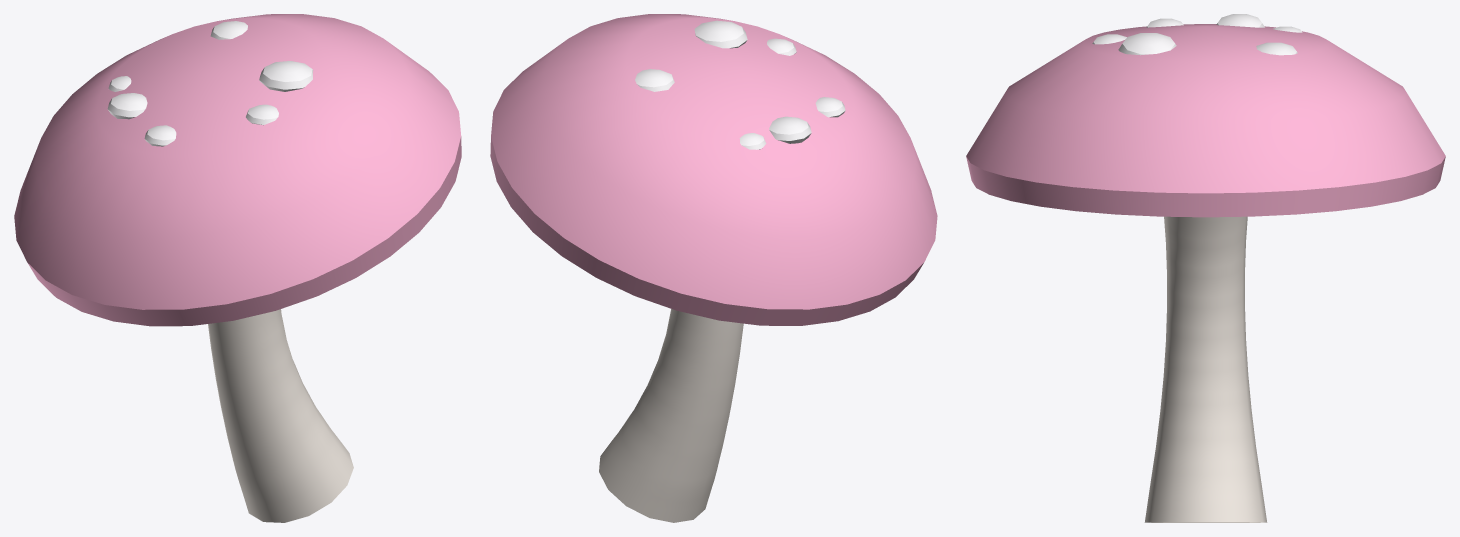
File: GiantMushroom_B.fbx
3 renders of one model, left to right at view 1: azimuth 30°, elevation 25°; view 2: azimuth 150°, elevation 25°; view 3: azimuth 270°, elevation 25°, orthographic. The views are drawn at different scales.
Parts seen in each view (by area): view 1: GiantMushroom_B; view 2: GiantMushroom_B; view 3: GiantMushroom_B.
Part boxes in pixels (bbox=[...]): GiantMushroom_B: bbox=[14, 14, 461, 522]; GiantMushroom_B: bbox=[490, 14, 937, 522]; GiantMushroom_B: bbox=[966, 14, 1445, 522].
Size of the model in its own units: 8.29 by 9.67 by 8.6.
